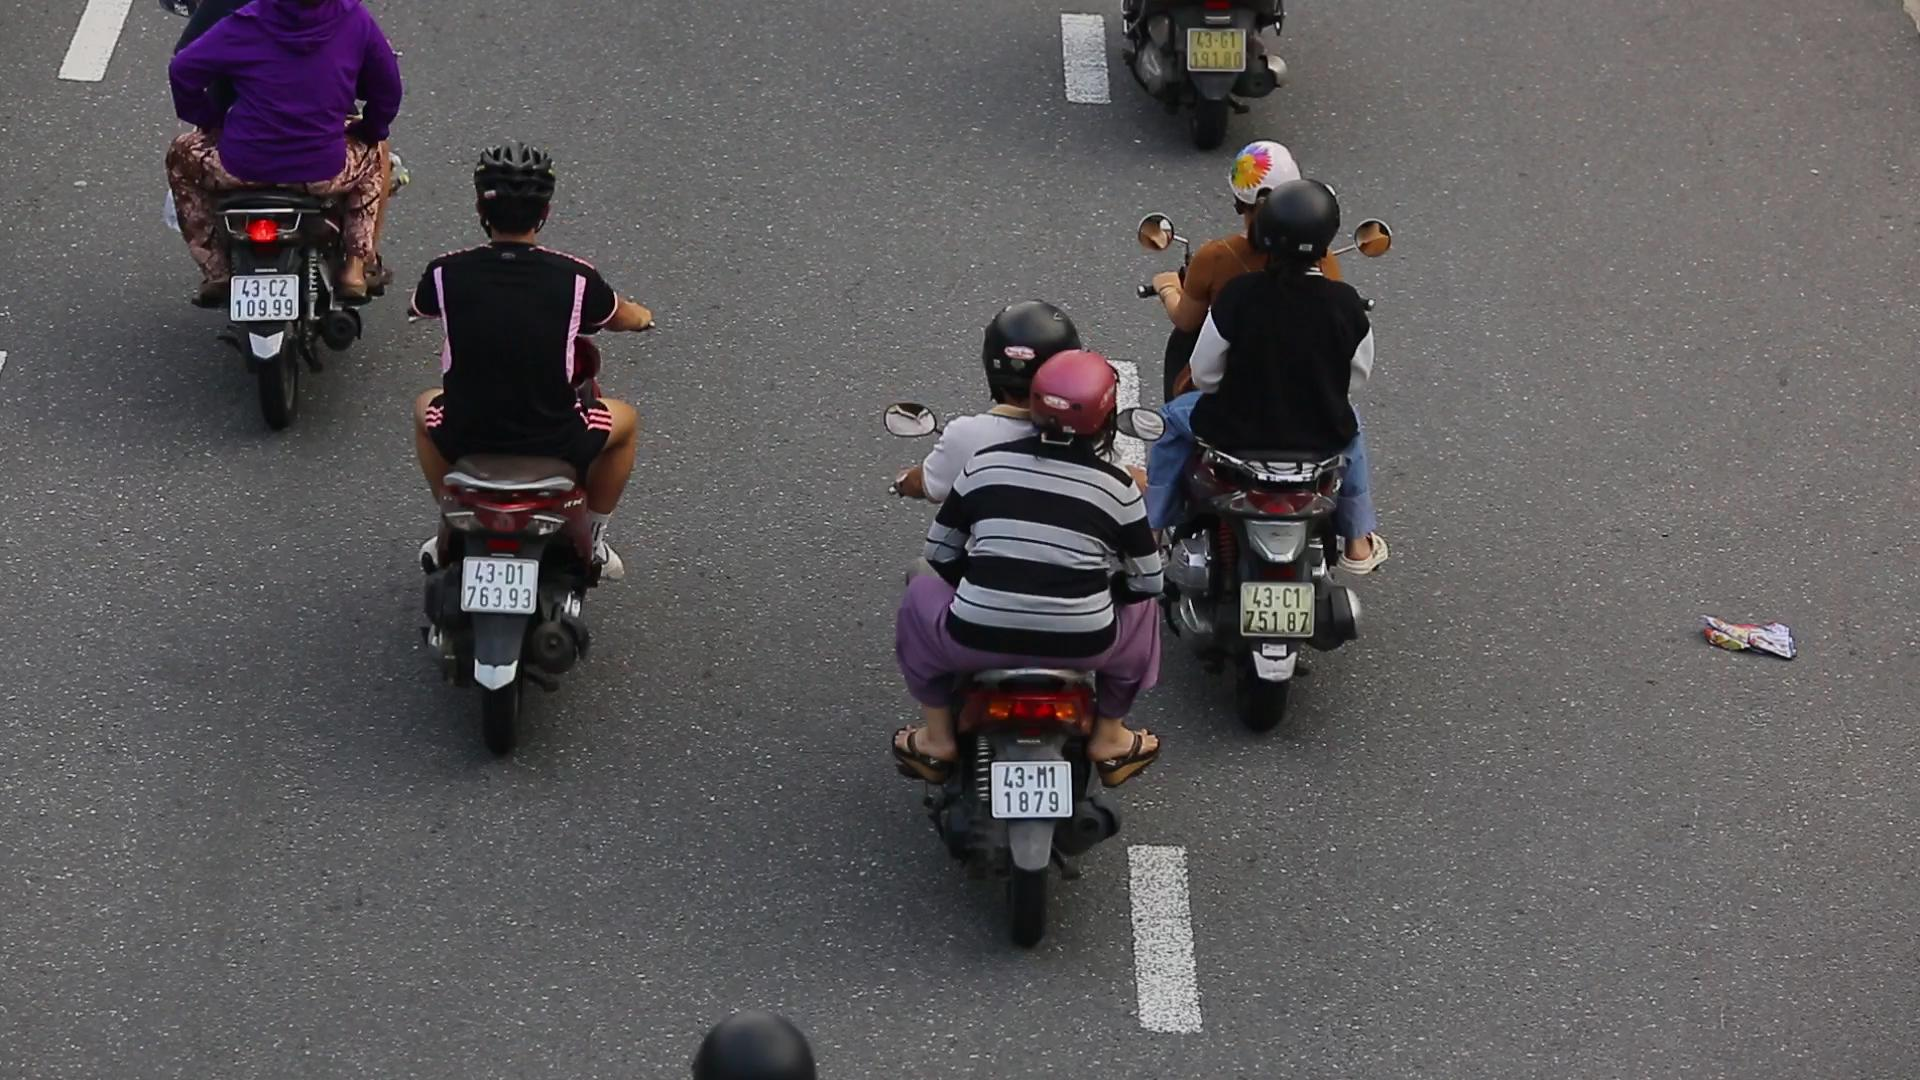motobike: (877, 297, 1187, 956), (1129, 145, 1408, 741), (404, 133, 667, 762)
